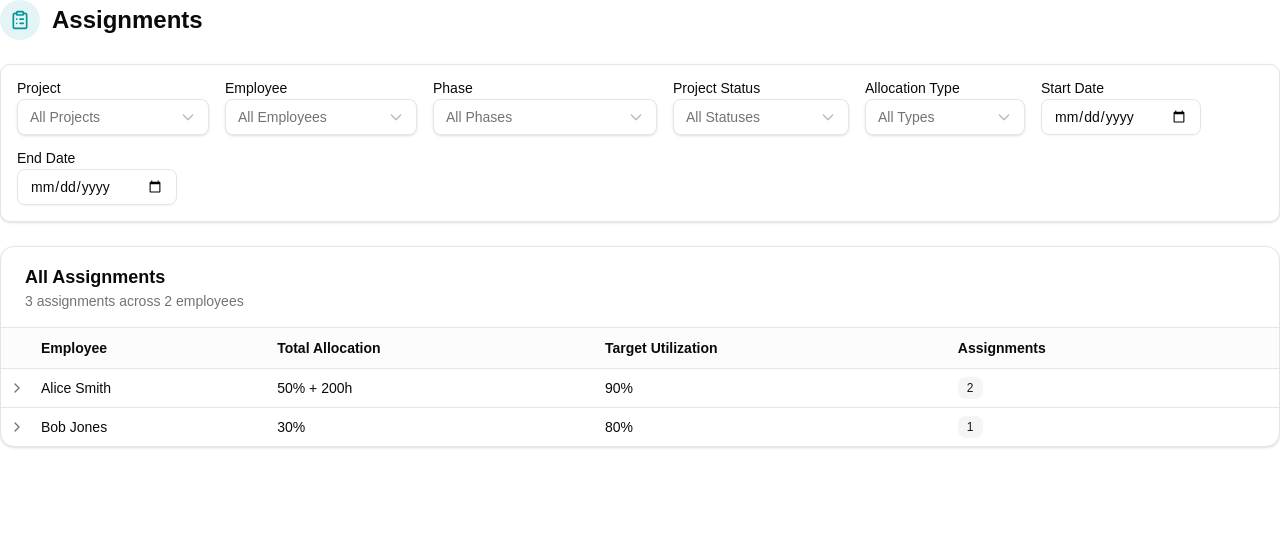
Test: Assignments Page › should expand employee group to show individual assignments
Click the row with test id "employee-group-emp-1": (640, 388) [1, 368, 1279, 407]
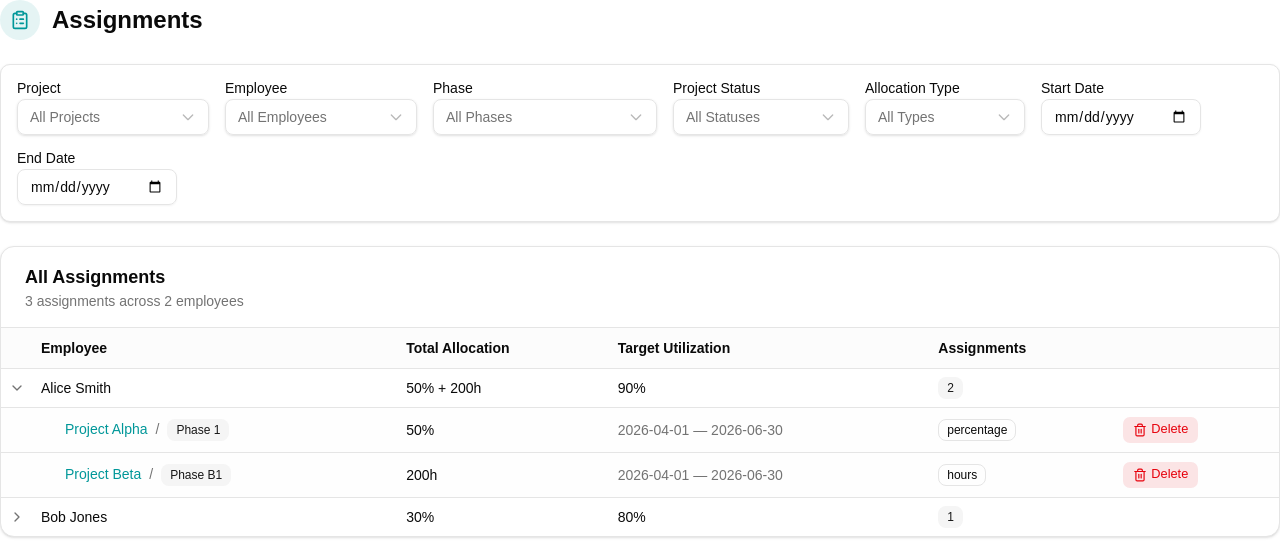
Now the row with test id "assignment-row-assign-1" is shown, box [1, 407, 1279, 452]
Now the row with test id "assignment-row-assign-2" is shown, box [1, 452, 1279, 497]
